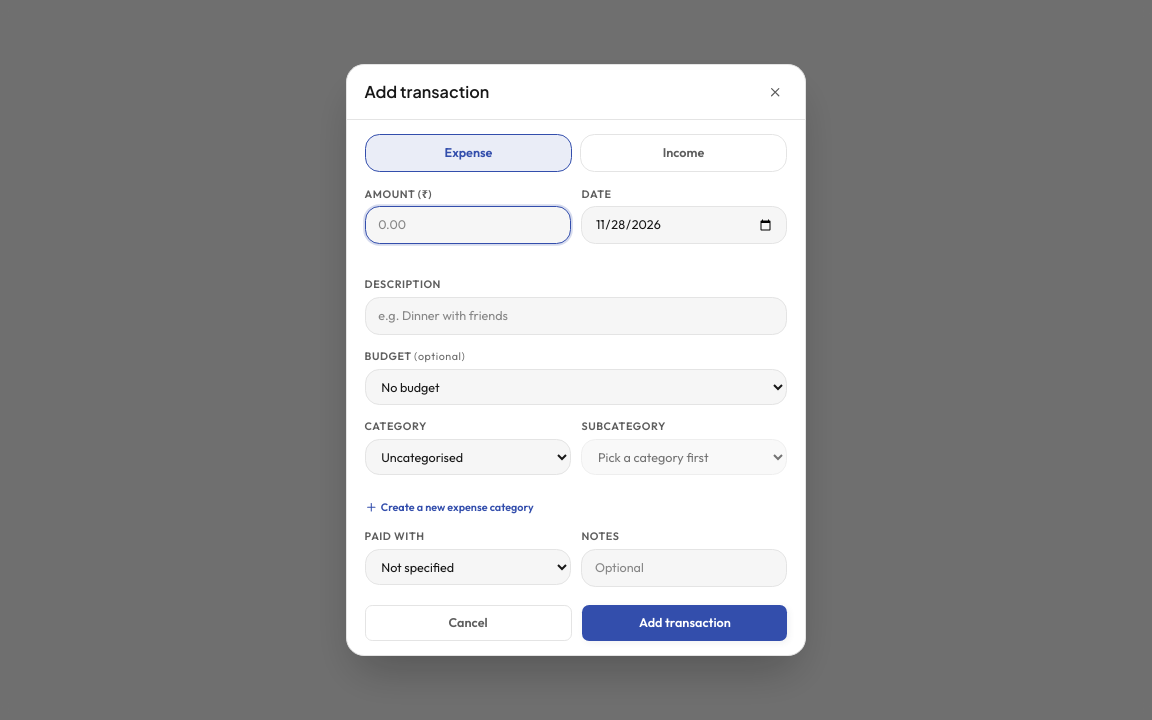
Test: TransactionFormModal › says when the category will be added to the budget, and when it is already there
Select "Monthly Budget" in the dropdown labelled "Budget (optional)": coordinates (576, 387) [365, 369, 787, 405]
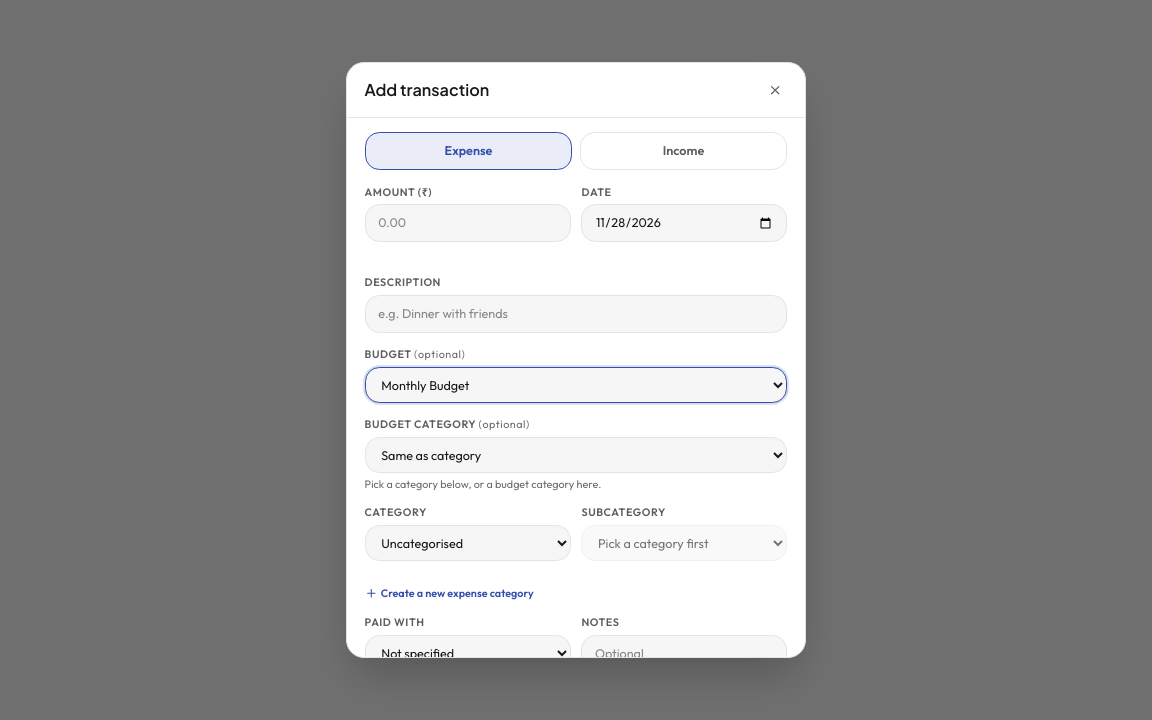
Select "Transport" in the dropdown labelled "Category": coordinates (468, 543) [365, 525, 571, 561]
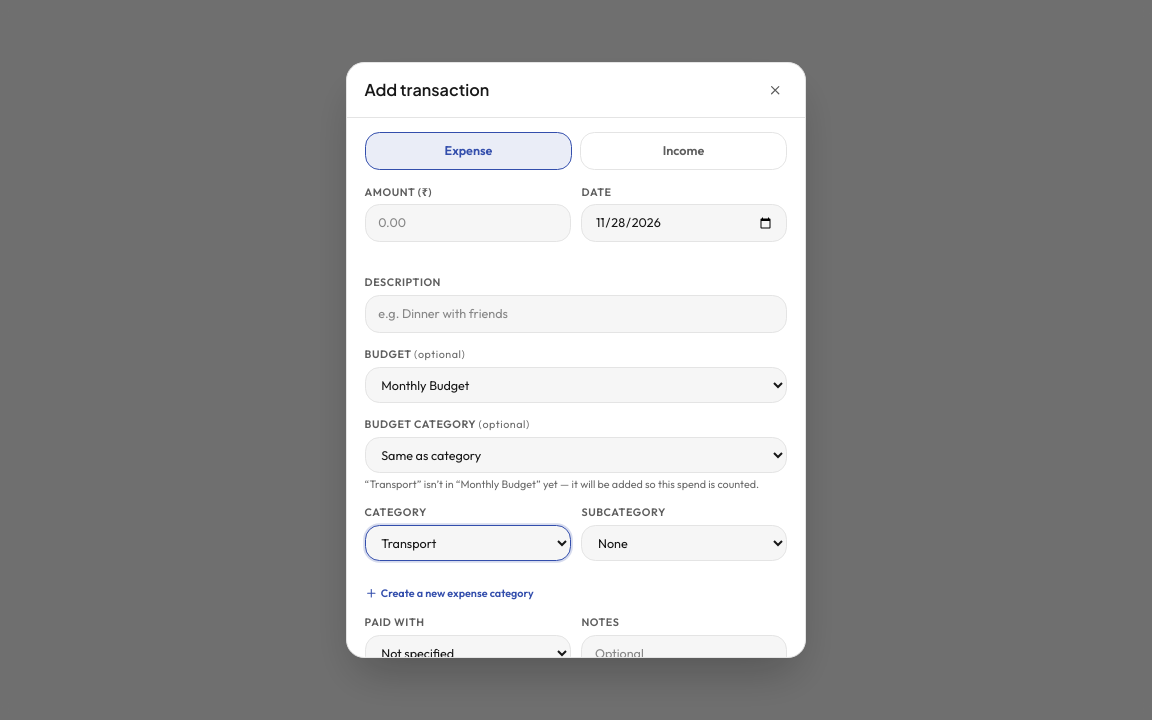
Result: the text "“Transport” isn’t in “Monthly Budget” yet — it will be added" is shown at [365, 476, 759, 490]
Select "Food & Dining" in the dropdown labelled "Category": coordinates (468, 543) [365, 525, 571, 561]
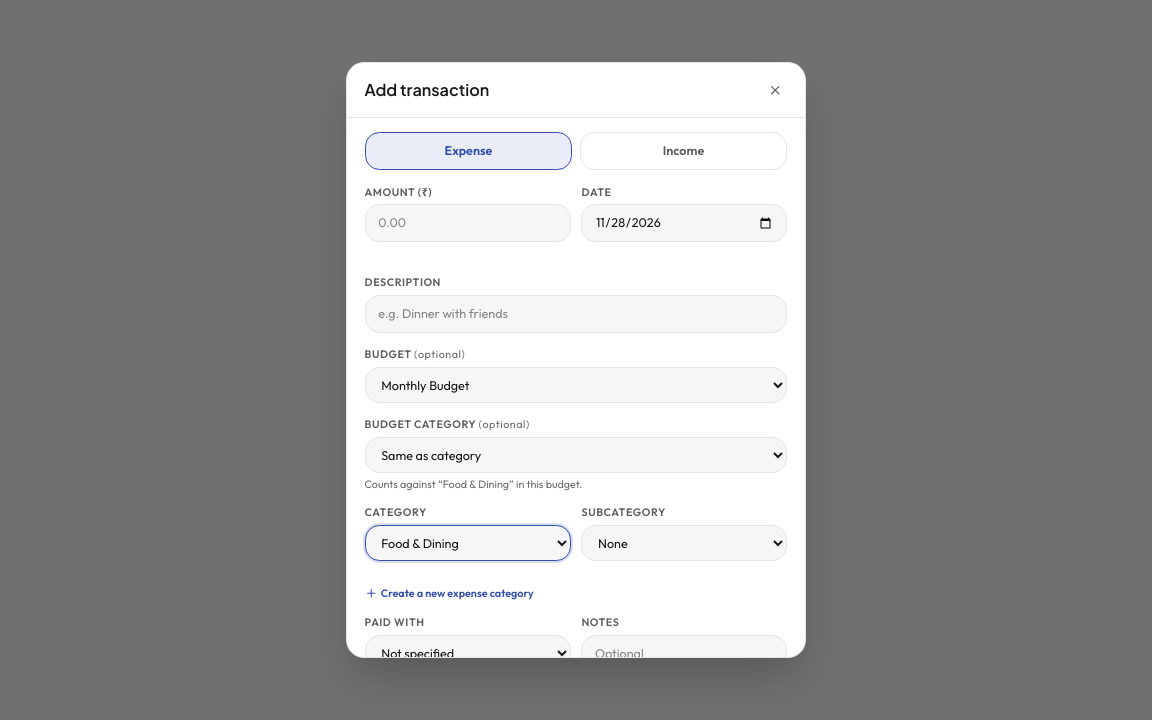
Result: the text "Counts against “Food & Dining” in this budget." is shown at [365, 476, 582, 490]
